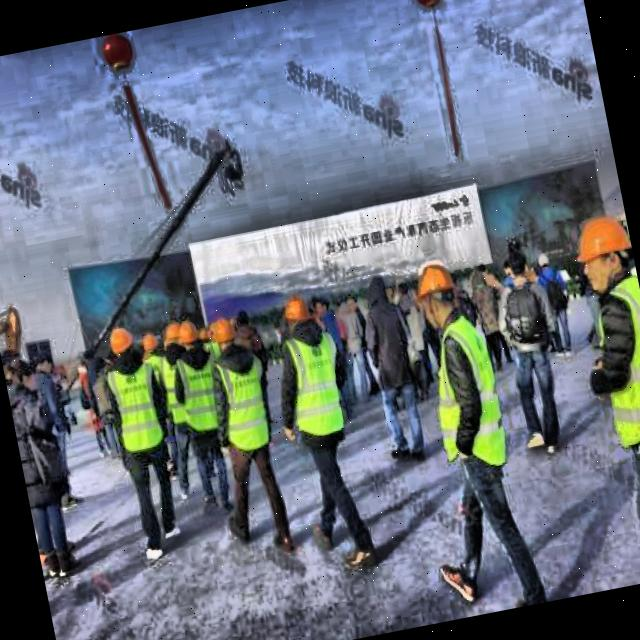helmet: (570, 210, 640, 304), (410, 260, 468, 336), (278, 293, 319, 340), (108, 322, 140, 367), (208, 314, 240, 358), (160, 314, 187, 350), (177, 317, 202, 353), (140, 326, 164, 362)
